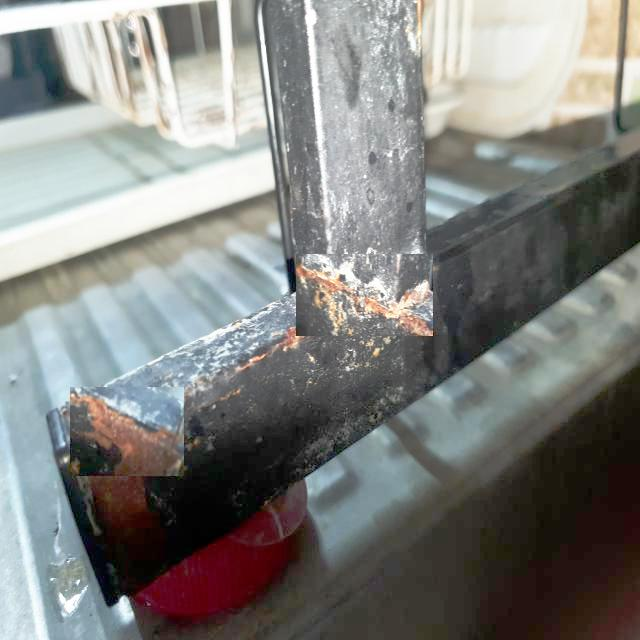Corrosion: (71, 396, 177, 476), (88, 477, 146, 532), (297, 255, 341, 292), (329, 273, 363, 304), (400, 289, 426, 322), (366, 298, 398, 318), (281, 327, 306, 352), (245, 350, 276, 370), (411, 318, 433, 336)
